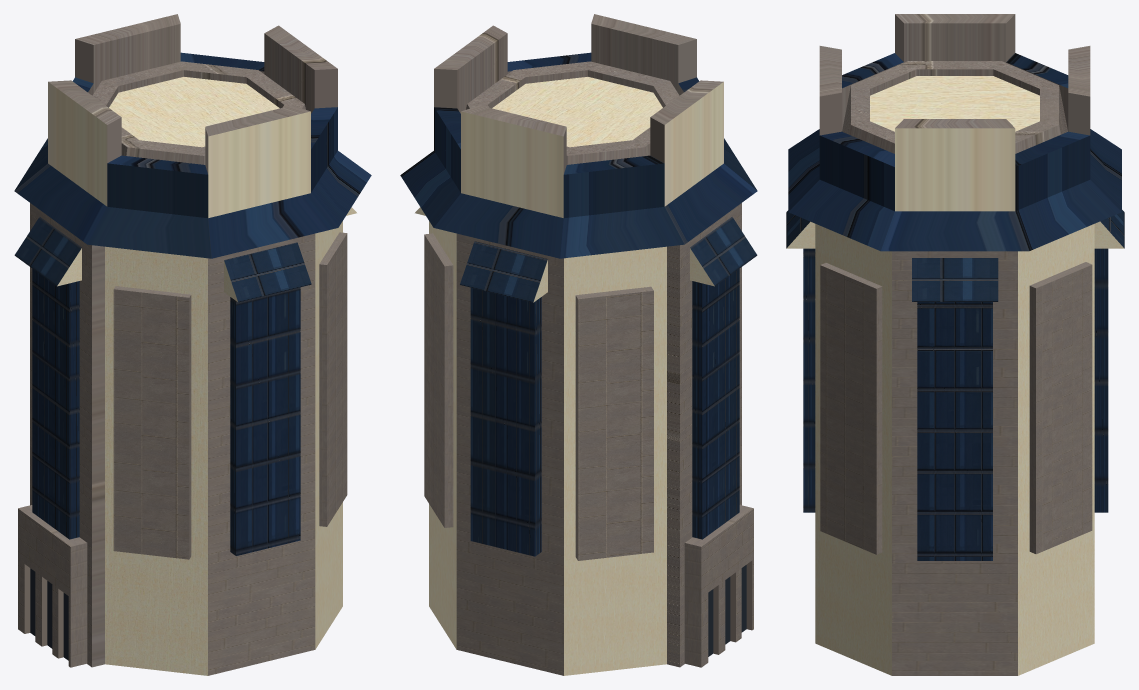
Rendered from bulid5.fbx.
The picture shows the model from 3 angles, left to right: view 1: azimuth 30°, elevation 25°; view 2: azimuth 150°, elevation 25°; view 3: azimuth 270°, elevation 25°; orthographic projection.
Parts seen in each view (by area): view 1: Cube, 立方体.009, 立方体.001, 立方体, 立方体.008, 立方体.007, 立方体.006; view 2: Cube, 立方体.011, 立方体.002, 立方体, 立方体.010, 立方体.004, 立方体.006; view 3: Cube, 立方体.003, 立方体.010, 立方体.008, 立方体.002, 立方体.005, 立方体.001, 立方体.004, 立方体.007.
Part boxes in pixels (<box>): Cube: <box>14,14,371,675</box>; 立方体.009: <box>113,286,191,559</box>; 立方体.001: <box>230,287,300,555</box>; 立方体: <box>32,269,79,539</box>; 立方体.008: <box>319,232,347,526</box>; 立方体.007: <box>224,242,311,302</box>; 立方体.006: <box>14,217,81,286</box>; Cube: <box>400,14,757,675</box>; 立方体.011: <box>575,286,653,560</box>; 立方体.002: <box>470,287,541,556</box>; 立方体: <box>692,269,739,539</box>; 立方体.010: <box>424,233,453,527</box>; 立方体.004: <box>460,241,547,302</box>; 立方体.006: <box>690,217,757,286</box>; Cube: <box>788,14,1121,675</box>; 立方体.003: <box>917,302,992,560</box>; 立方体.010: <box>1029,262,1092,554</box>; 立方体.008: <box>820,263,882,554</box>; 立方体.002: <box>1094,248,1108,512</box>; 立方体.005: <box>912,258,998,301</box>; 立方体.001: <box>803,248,815,512</box>; 立方体.004: <box>1094,210,1124,248</box>; 立方体.007: <box>786,210,815,248</box>.
Size of the model in its own units: 4080 by 6970 by 3913.
Materials: 3 (3 with a texture image).
